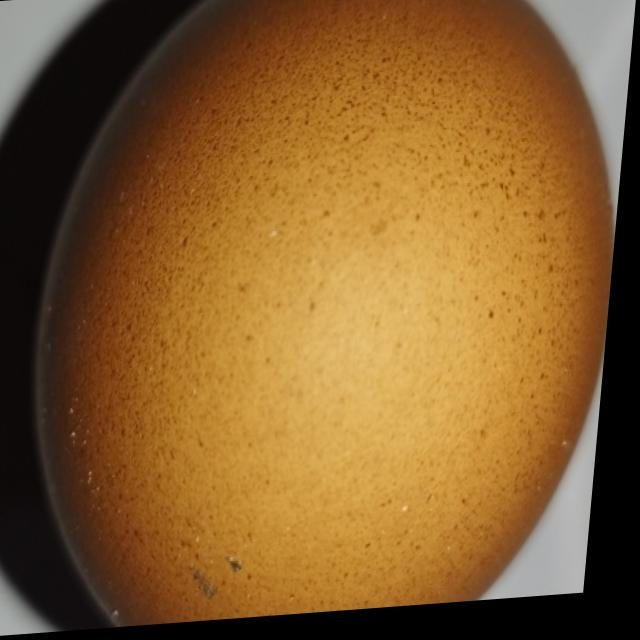unfresh: (6, 0, 640, 637)
